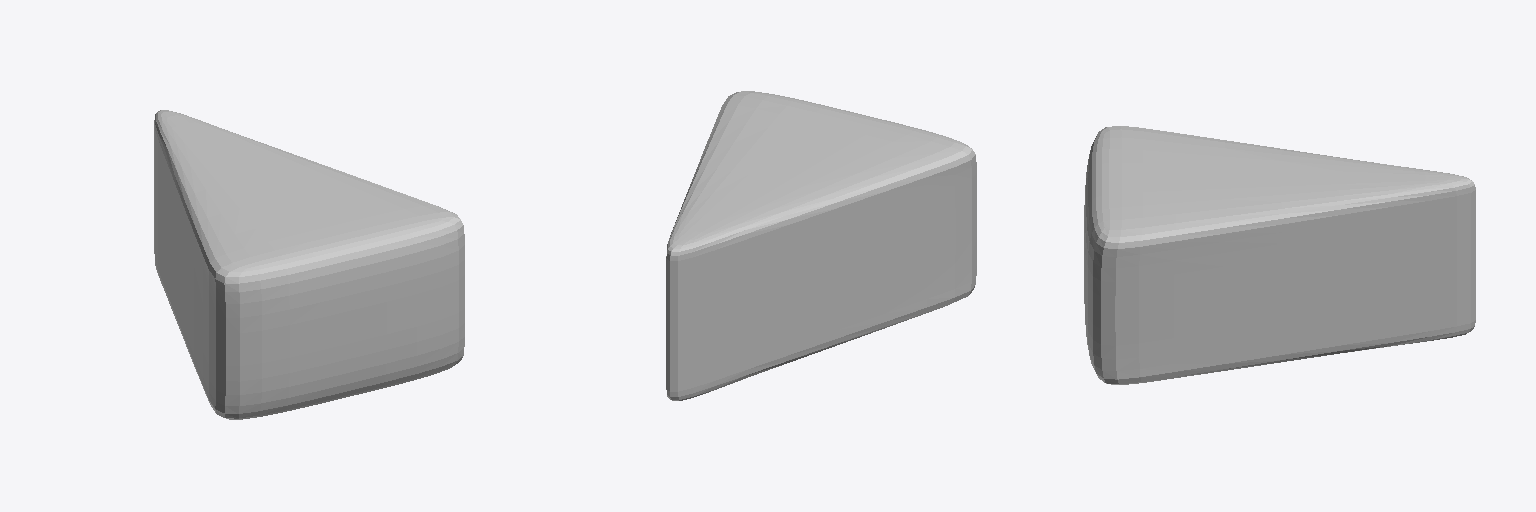
The model's file is cheese_smoothlp1.obj.
The picture shows the model from 3 angles: view 1: azimuth 30°, elevation 25°; view 2: azimuth 150°, elevation 25°; view 3: azimuth 270°, elevation 25°; orthographic projection.
Visible parts, largest first — view 1: cheese_smoothlp1:pieceofcheese; view 2: cheese_smoothlp1:pieceofcheese; view 3: cheese_smoothlp1:pieceofcheese.
Boxes of the visible parts, x1=… form: cheese_smoothlp1:pieceofcheese: x1=154, y1=110, x2=464, y2=419; cheese_smoothlp1:pieceofcheese: x1=666, y1=91, x2=976, y2=400; cheese_smoothlp1:pieceofcheese: x1=1084, y1=126, x2=1475, y2=384.
Bounding box in the file's own units: 0.8567 × 0.5254 × 1.19.